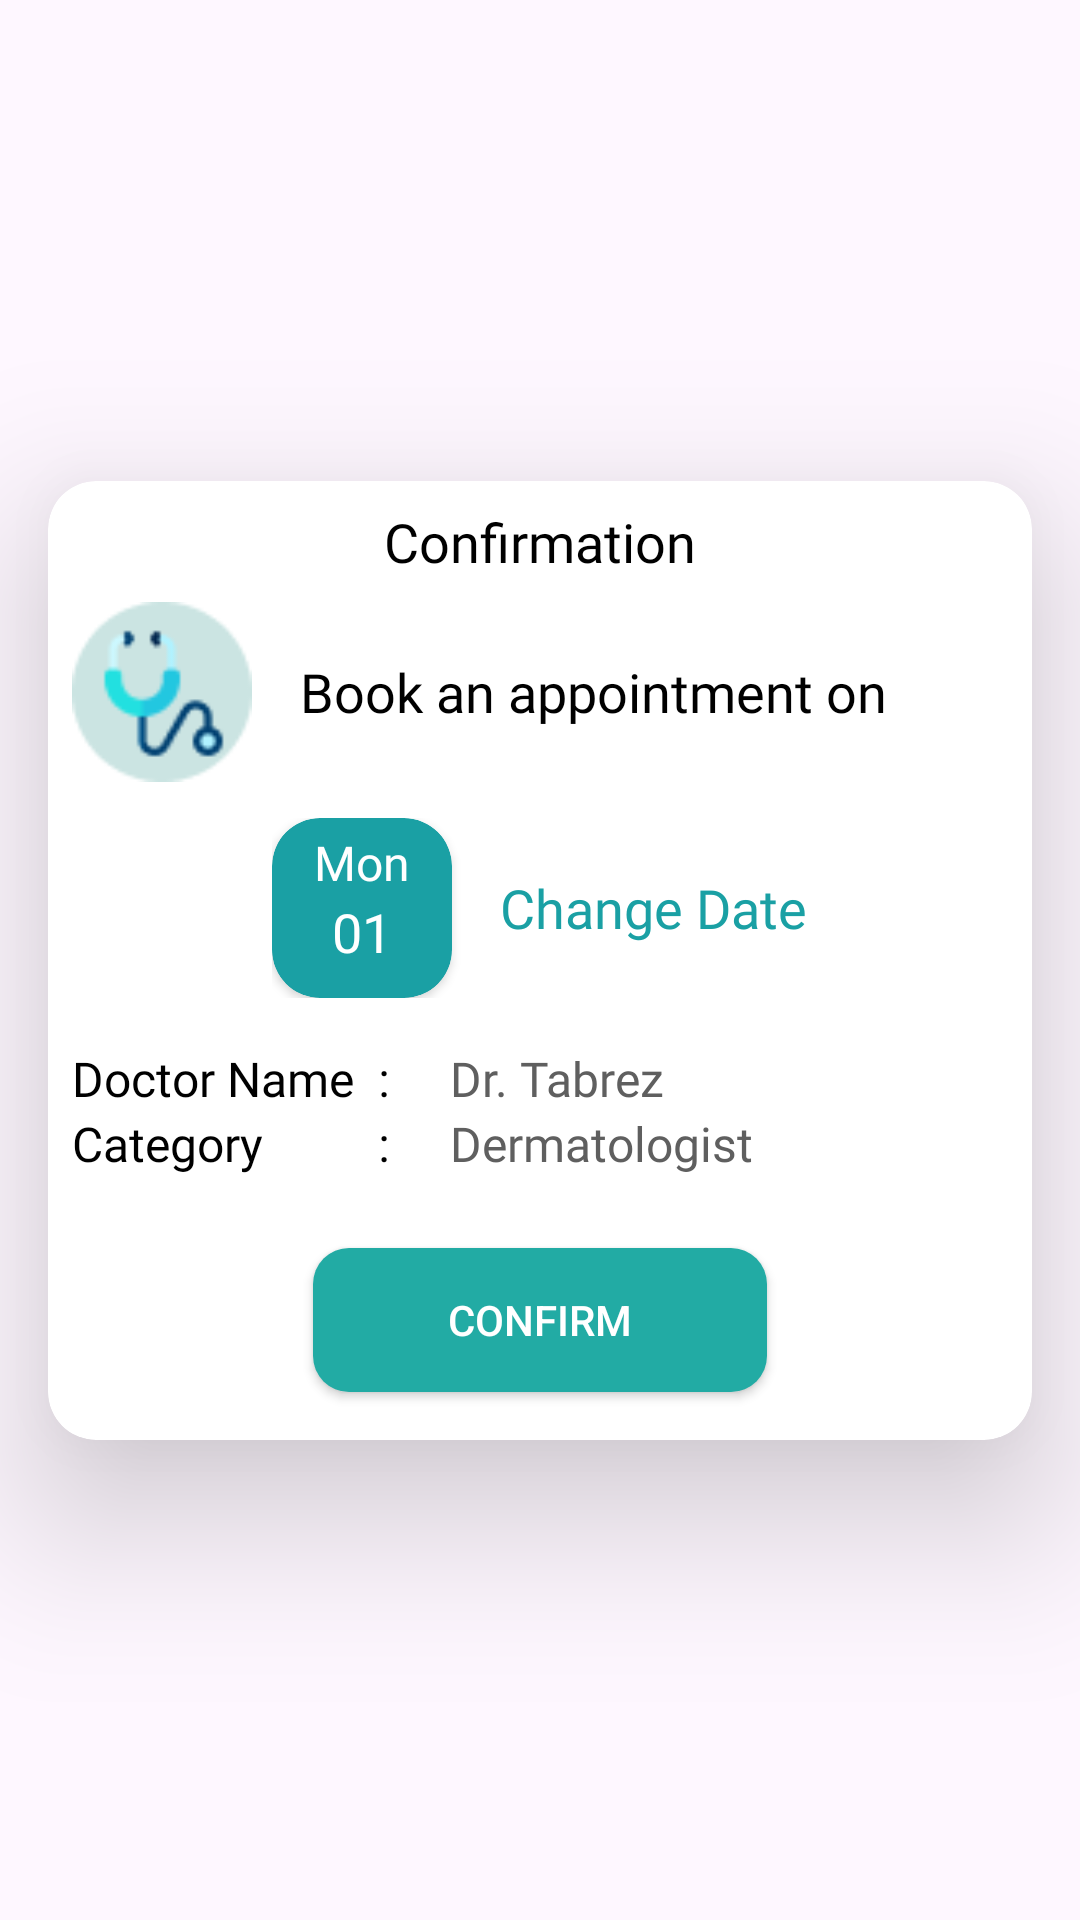

Named icons in this screenshot (1080x1920) and their bounding boxes, (x1, y1, x2, y2):
physician: (72, 602, 252, 782)
